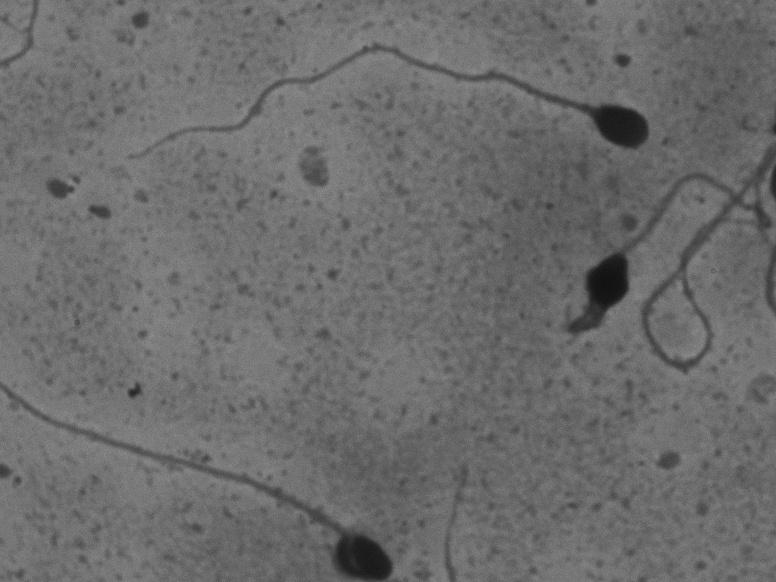Abnormal: (553, 161, 756, 387)
Normal: (107, 47, 676, 169)
